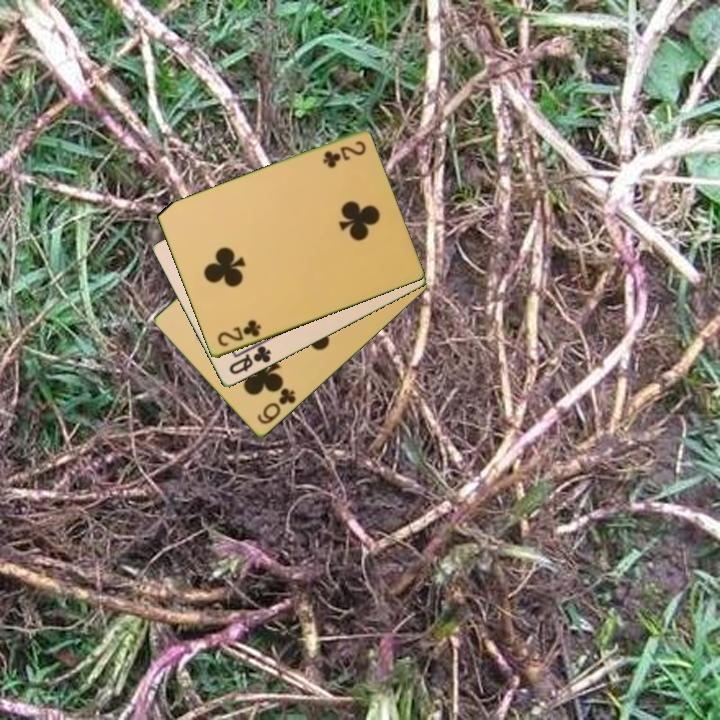2c: (213, 316, 264, 350), (319, 138, 369, 170)
6c: (253, 385, 299, 428)
Qc: (225, 338, 274, 378)
